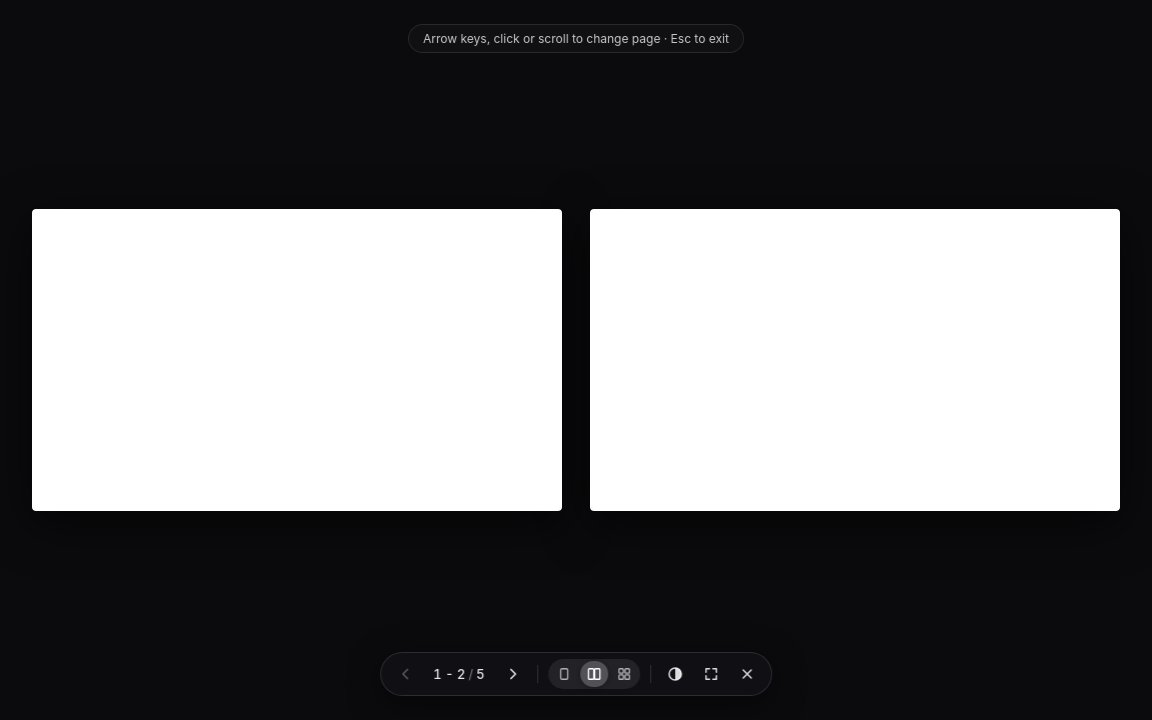
Test: TypesetPdfPresentation › switches to grid overview mode, renders all thumbnails, and allows selecting a page
// Press 'g' to enter grid mode
Press g
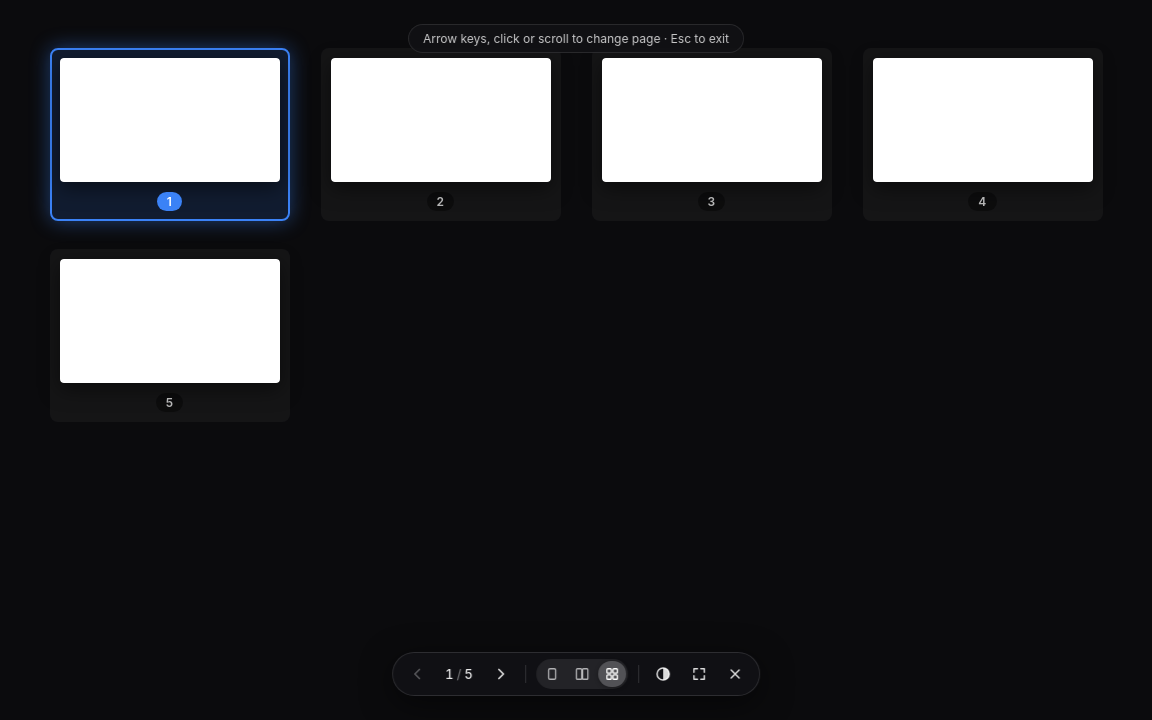
Result: the element with class "typeset-pdf-presentation-stage" is shown at [50,48,1102,422]
Result: the number of buttons with class "typeset-presentation-grid-item" is 5
// Click thumbnail for page 4
Click the button named "Page 4" at (982, 134), box [862,48,1102,221]
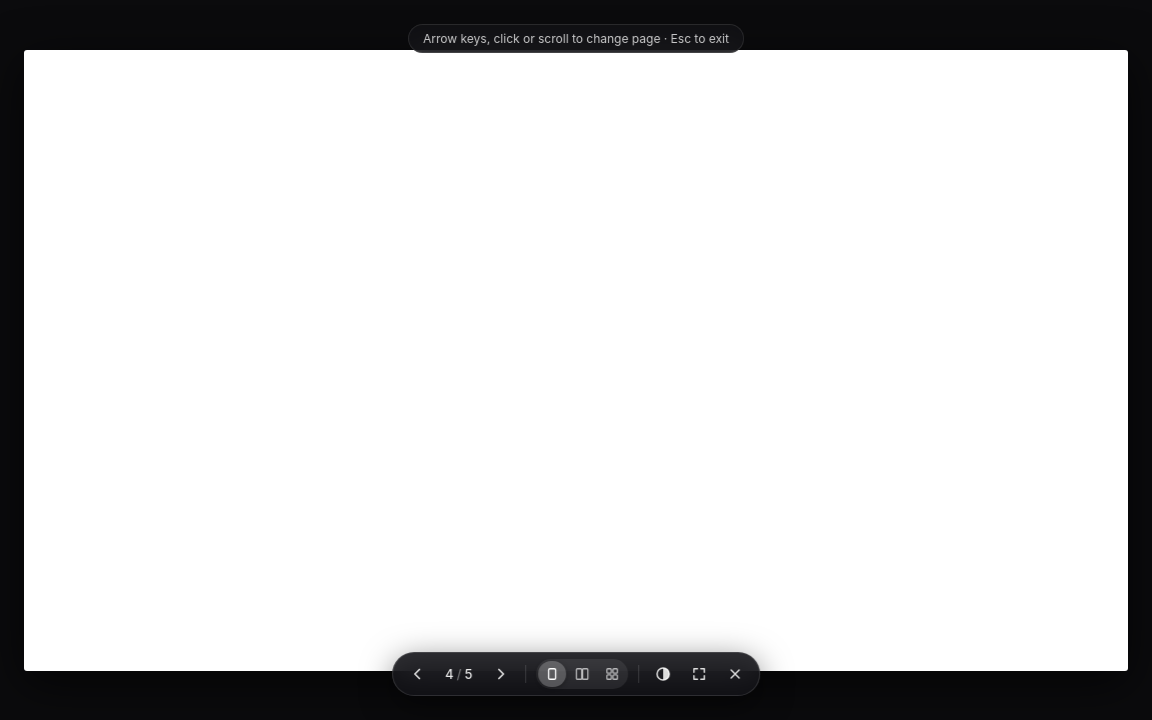
Result: the element with class "single" is shown
